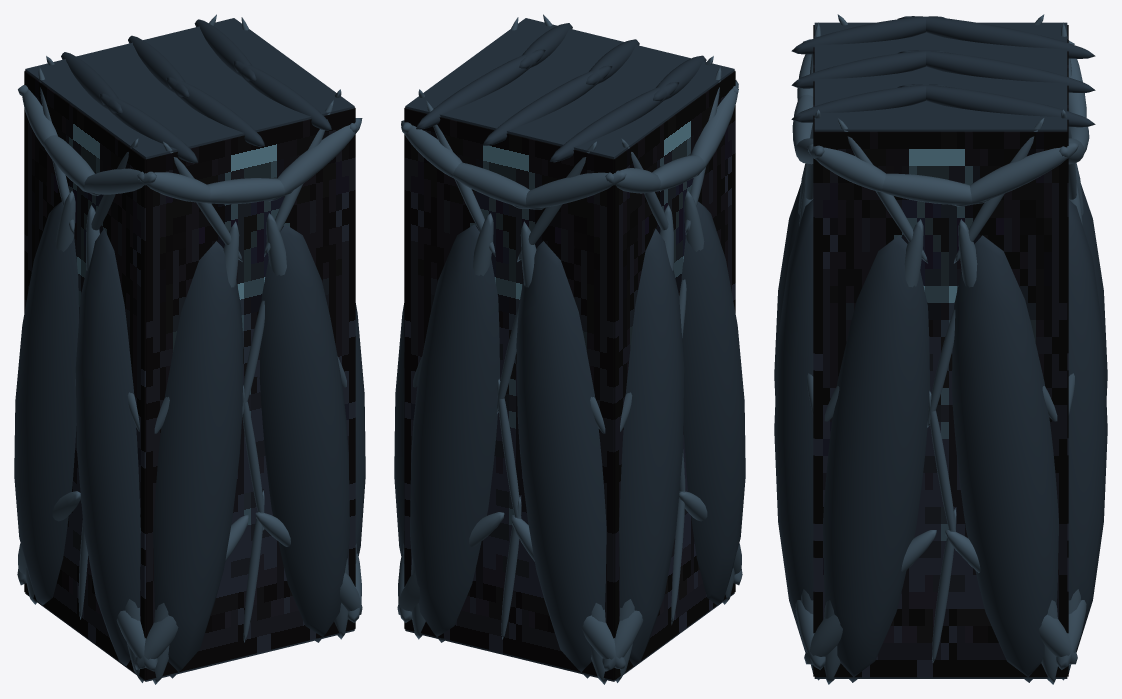
The model's file is CMU3DHiveWallXenoResinQueen.glb.
The picture shows the model from 3 angles, left to right: view 1: azimuth 30°, elevation 25°; view 2: azimuth 150°, elevation 25°; view 3: azimuth 270°, elevation 25°; orthographic projection. The views are drawn at different scales.
Visible parts, largest first — view 1: broad exoskeletal fold (×5), source resin skin front and rear, source resin skin sides, continuous resin backing, sealed roof fold (×6), crown collar (×6), arching load-bearing tendon (×7), lower root buttress (×5), central interlocking seam (×4); view 2: broad exoskeletal fold (×5), source resin skin front and rear, source resin skin sides, continuous resin backing, sealed roof fold (×6), crown collar (×6), arching load-bearing tendon (×7), central interlocking seam (×4), lower root buttress (×4); view 3: broad exoskeletal fold (×6), source resin skin sides, continuous resin backing, sealed roof fold (×6), crown collar (×5), lower root buttress (×6), arching load-bearing tendon (×6), central interlocking seam (×3), source resin skin front and rear (×2).
Part boxes in pixels (x1,y1,x2,y2): broad exoskeletal fold (×5): [14, 201, 365, 678]; source resin skin front and rear: [146, 108, 355, 679]; source resin skin sides: [24, 71, 145, 679]; continuous resin backing: [25, 18, 354, 681]; sealed roof fold (×6): [61, 19, 331, 163]; crown collar (×6): [22, 89, 362, 204]; arching load-bearing tendon (×7): [38, 66, 333, 287]; lower root buttress (×5): [52, 491, 362, 671]; central interlocking seam (×4): [78, 300, 264, 642]; broad exoskeletal fold (×5): [394, 201, 745, 678]; source resin skin front and rear: [404, 108, 613, 679]; source resin skin sides: [614, 71, 735, 679]; continuous resin backing: [405, 18, 734, 681]; sealed roof fold (×6): [416, 23, 706, 162]; crown collar (×6): [401, 80, 738, 209]; arching load-bearing tendon (×7): [426, 66, 721, 287]; central interlocking seam (×4): [497, 307, 685, 639]; lower root buttress (×4): [397, 512, 643, 671]; broad exoskeletal fold (×6): [774, 183, 1107, 682]; source resin skin sides: [814, 131, 1067, 677]; continuous resin backing: [814, 22, 1067, 678]; sealed roof fold (×6): [791, 16, 1095, 127]; crown collar (×5): [792, 40, 1086, 206]; lower root buttress (×6): [795, 530, 1086, 669]; arching load-bearing tendon (×6): [824, 118, 1057, 684]; central interlocking seam (×3): [927, 309, 956, 662]; source resin skin front and rear (×2): [813, 25, 1068, 676].
Size of the model in its own units: 1.32 by 2.51 by 1.32.
3 materials, 1 textured.
